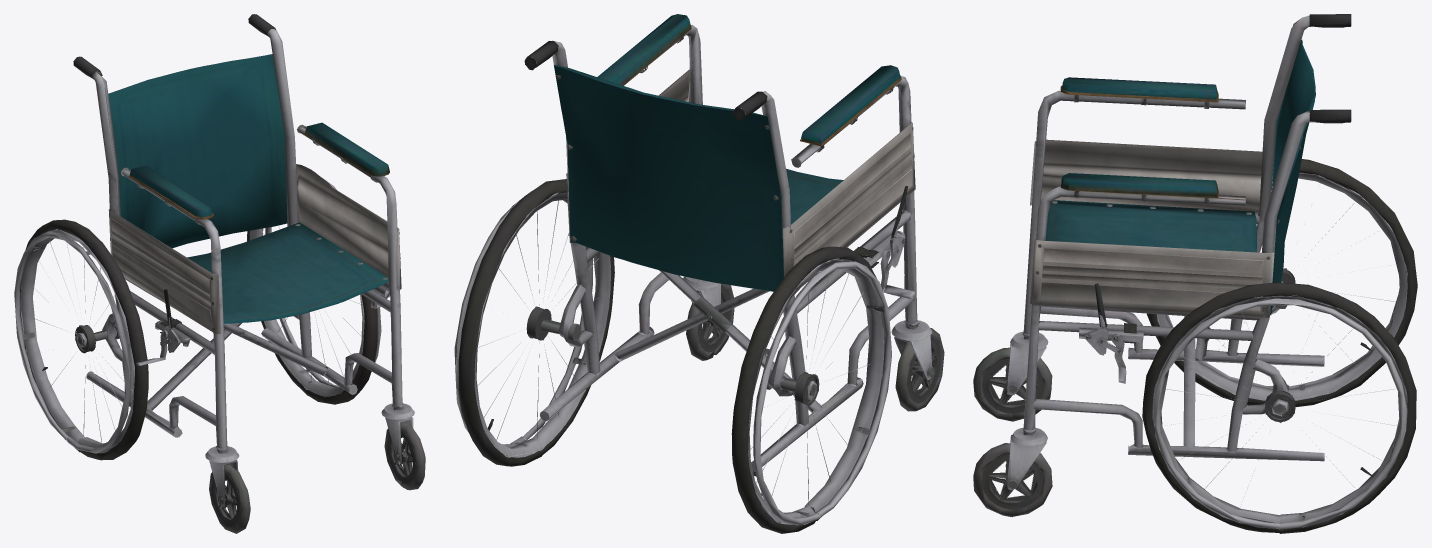
The model's file is wheelchair_01.glb.
3 views of the same model, side by side, from view 1: azimuth 30°, elevation 25°; view 2: azimuth 150°, elevation 25°; view 3: azimuth 270°, elevation 25° (orthographic). The views are drawn at different scales.
Visible parts, largest first — view 1: wheelchair_01; view 2: wheelchair_01; view 3: wheelchair_01.
Boxes of the visible parts, x1=… form: wheelchair_01: x1=14, y1=14, x2=425, y2=533; wheelchair_01: x1=454, y1=14, x2=944, y2=533; wheelchair_01: x1=973, y1=14, x2=1417, y2=533.
Bounding box in the file's own units: 0.8242 × 1.1 × 1.09.
Materials: 1 (1 with a texture image).
